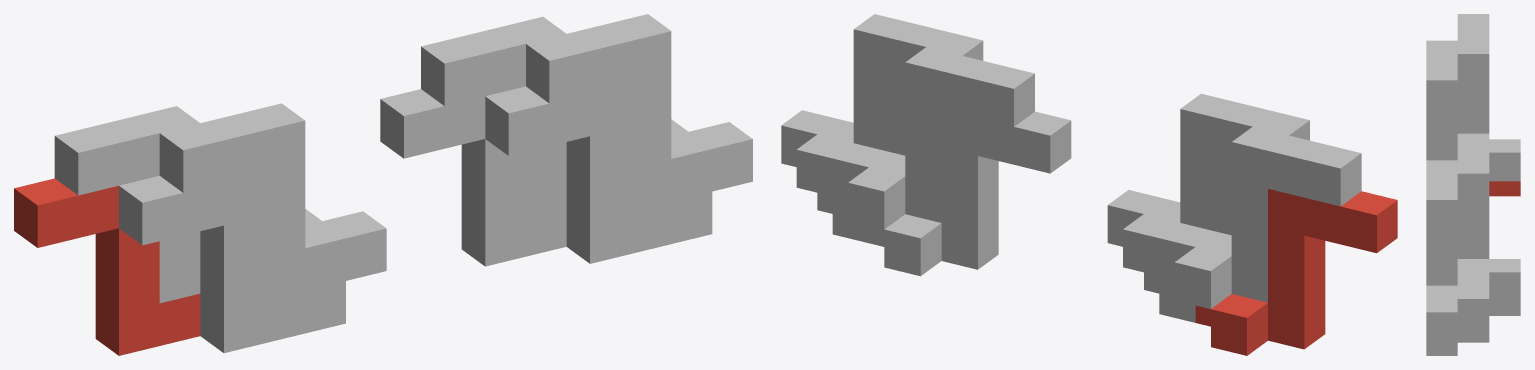
The model's file is tiling.obj.
3 renders of one model, left to right at view 1: azimuth 30°, elevation 25°; view 2: azimuth 150°, elevation 25°; view 3: azimuth 270°, elevation 25°, orthographic. The views are drawn at different scales.
Visible parts, largest first — view 1: copy_1_domain_4, copy_1_domain_8, copy_1_domain_6, copy_1_domain_2, copy_1_domain_5, copy_1_domain_1, copy_1_domain_3, copy_1_domain_7; view 2: copy_1_domain_7, copy_1_domain_3, copy_1_domain_5, copy_1_domain_1, copy_1_domain_8, copy_1_domain_4, copy_1_domain_2, copy_1_domain_6; view 3: copy_1_domain_8, copy_1_domain_7, copy_1_domain_3, copy_1_domain_4, copy_1_domain_6, copy_1_domain_1, copy_1_domain_5.
Part boxes in pixels (x1,y1,x2,y2): copy_1_domain_4: (159,103,386,300); copy_1_domain_8: (526,14,752,211); copy_1_domain_6: (485,84,712,263); copy_1_domain_2: (119,173,345,353); copy_1_domain_5: (380,89,566,266); copy_1_domain_1: (14,178,200,355); copy_1_domain_3: (54,106,200,303); copy_1_domain_7: (421,16,566,213); copy_1_domain_7: (832,47,1034,229); copy_1_domain_3: (1159,127,1361,308); copy_1_domain_5: (869,109,1071,276); copy_1_domain_1: (1195,189,1397,355); copy_1_domain_8: (781,14,983,196); copy_1_domain_4: (1107,93,1309,275); copy_1_domain_2: (1144,156,1231,322); copy_1_domain_6: (817,76,905,243); copy_1_domain_8: (1426,160,1489,340); copy_1_domain_7: (1457,133,1520,300); copy_1_domain_3: (1457,14,1520,181); copy_1_domain_4: (1426,40,1457,160); copy_1_domain_6: (1426,327,1489,355); copy_1_domain_1: (1489,181,1520,196); copy_1_domain_5: (1489,301,1520,315).
Size of the model in its own units: 17 by 5 by 3.
